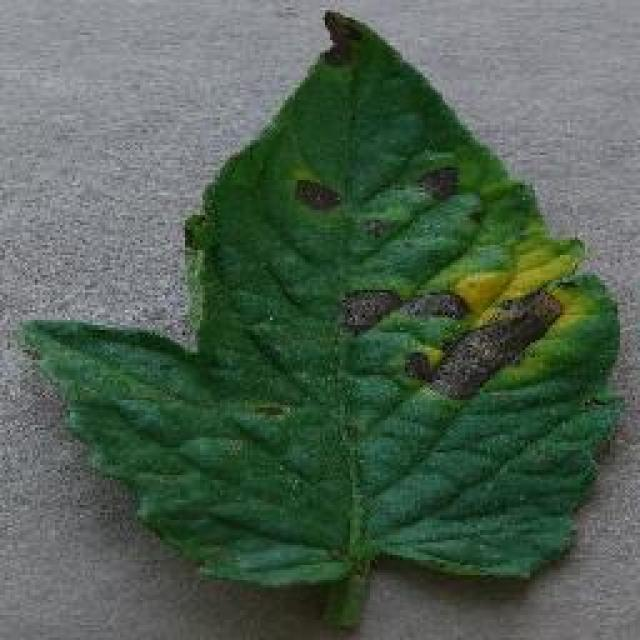Tomato Early blight leaf: (41, 26, 619, 619)
